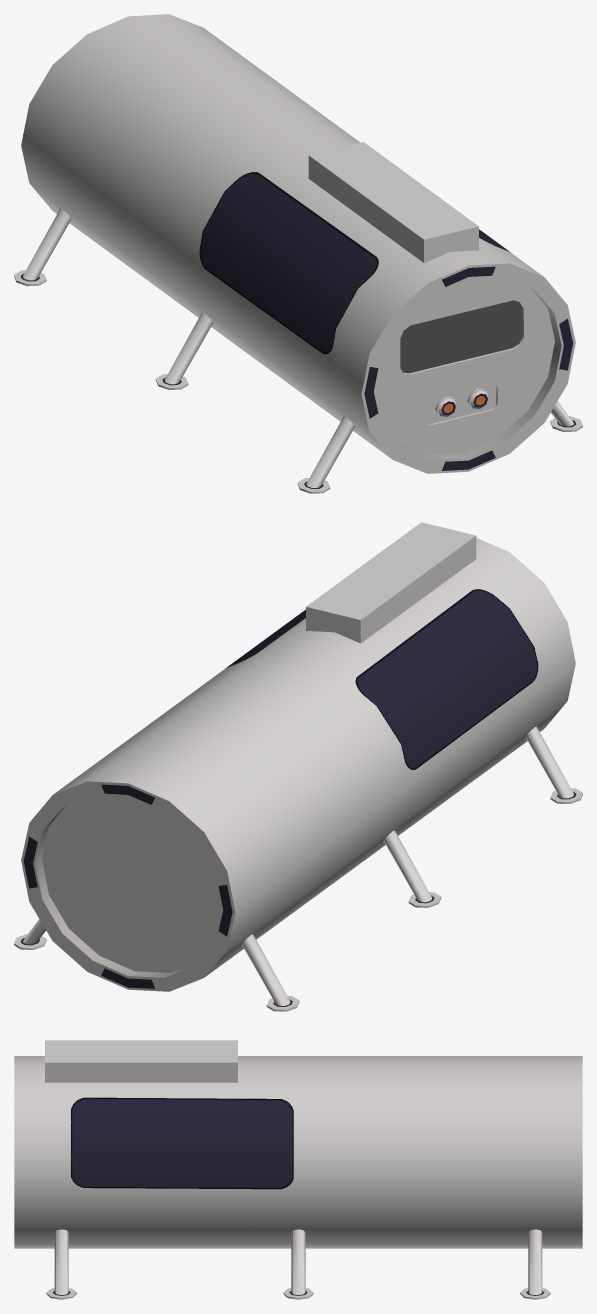
Rendered from coridor1.fbx.
The picture shows the model from 3 angles, top to bottom: view 1: azimuth 30°, elevation 25°; view 2: azimuth 150°, elevation 25°; view 3: azimuth 270°, elevation 25°; orthographic projection. The views are drawn at different scales.
Visible parts, largest first — view 1: coridor1; view 2: coridor1; view 3: coridor1.
Part boxes in pixels (x1,y1,x2,y2): coridor1: (14,14,582,493); coridor1: (14,522,582,1011); coridor1: (14,1040,582,1299).
Bounding box in the file's own units: 3.84 × 3 × 8.07.
